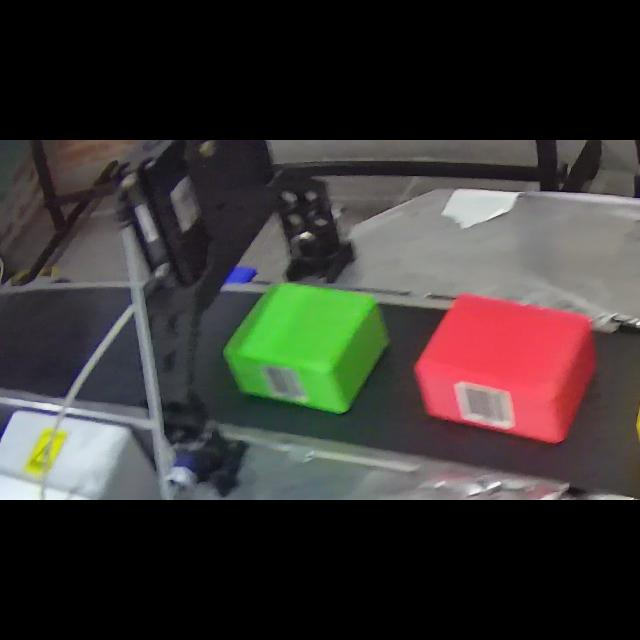greenBox: (218, 276, 394, 419)
redBox: (409, 286, 601, 448)
yellowBox: (630, 332, 640, 486)
